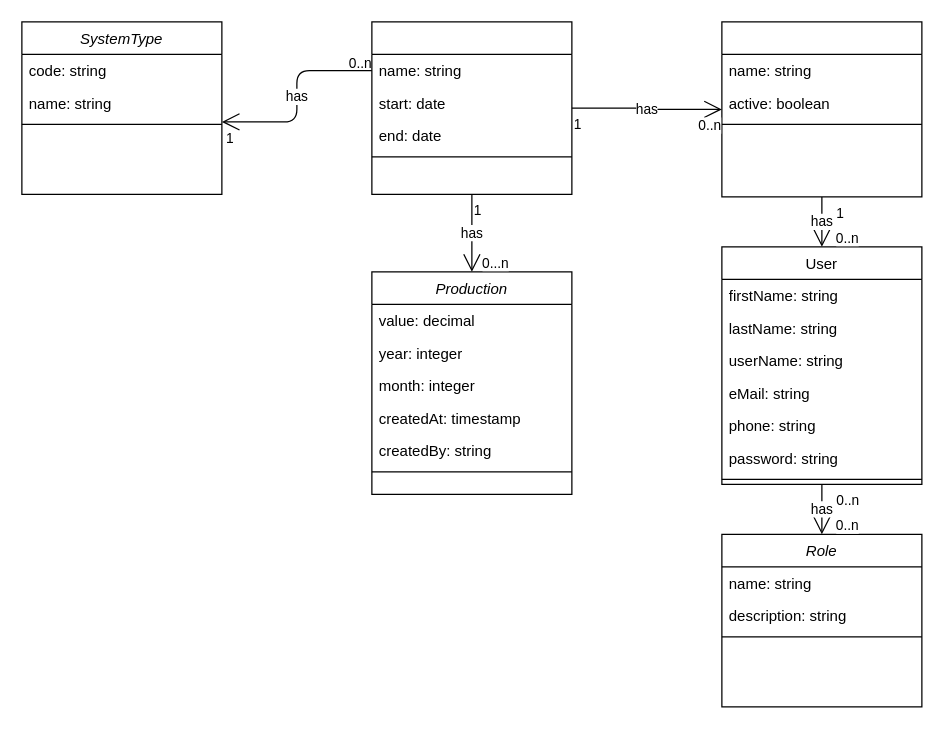
Some shapes in this 944 by 729 pixel diagram are drawn without their labels. Here are the shapes that lost their labels. From the top down, the box of each, then its label:
(371, 21, 572, 194): System
(721, 21, 922, 197): Owner
